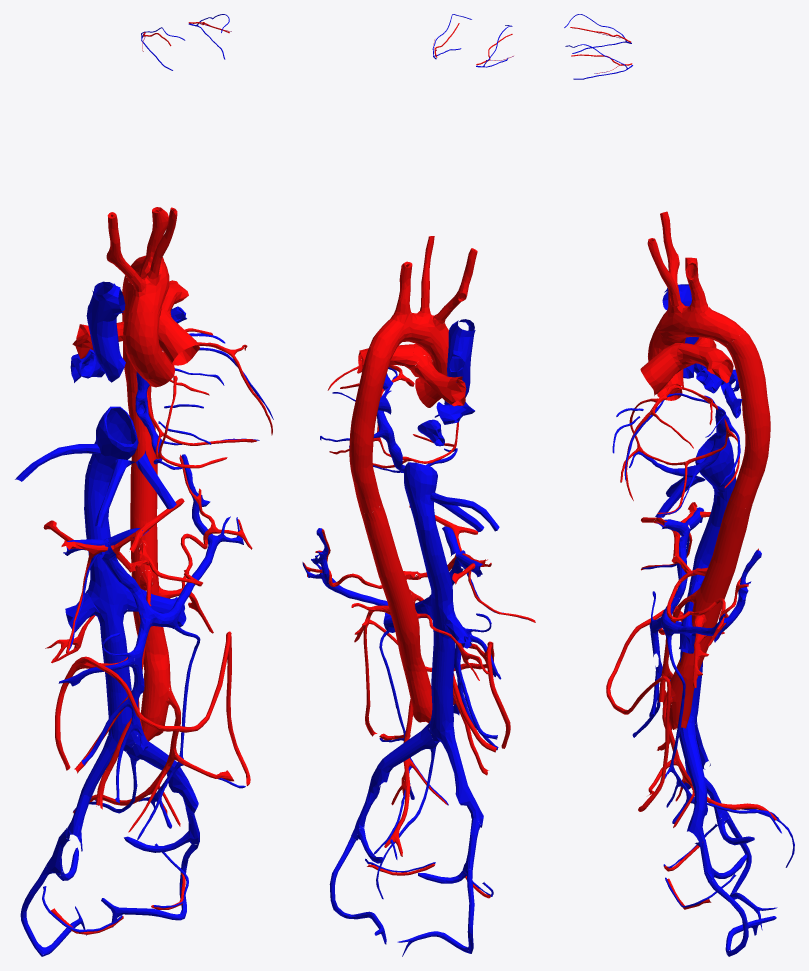
The model's file is VH_F_Blood_Vasculature_0.1.glb.
3 views of the same model, side by side, from view 1: azimuth 30°, elevation 25°; view 2: azimuth 150°, elevation 25°; view 3: azimuth 270°, elevation 25° (orthographic). The views are drawn at different scales.
Parts seen in each view (by area): view 1: VH_F_inferior_vena_cava_b, VH_F_descending_aorta_b, VH_F_marginal_artery_of_Drummond, VH_F_superior_vena_cava, VH_F_ascending_aorta, VH_F_inferior_vena_cava_a, VH_F_splenic_vein, VH_F_aortic_arch, VH_F_left_common_iliac_vein, VH_F_pulmonary_trunk, VH_F_right_common_iliac_vein, VH_F_descending_aorta_a (+14 smaller); view 2: VH_F_descending_aorta_b, VH_F_inferior_vena_cava_b, VH_F_descending_aorta_a, VH_F_aortic_arch, VH_F_inferior_vena_cava_a, VH_F_left_common_iliac_vein, VH_F_superior_vena_cava, VH_F_marginal_artery_of_Drummond, VH_F_pulmonary_artery_R, VH_F_right_common_iliac_vein, VH_F_splenic_vein, VH_F_ascending_aorta (+7 smaller); view 3: VH_F_descending_aorta_b, VH_F_descending_aorta_a, VH_F_aortic_arch, VH_F_inferior_vena_cava_b, VH_F_left_common_iliac_vein, VH_F_marginal_artery_of_Drummond, VH_F_splenic_vein, VH_F_pulmonary_artery_L, VH_F_inferior_vena_cava_a, VH_F_pulmonary_trunk, VH_F_splenic_artery, VH_F_ascending_aorta (+11 smaller).
Boxes of the visible parts, left/top/right/bottom form: VH_F_inferior_vena_cava_b: left=84, top=461, right=137, bottom=751; VH_F_descending_aorta_b: left=130, top=443, right=171, bottom=741; VH_F_marginal_artery_of_Drummond: left=55, top=631, right=250, bottom=785; VH_F_superior_vena_cava: left=86, top=281, right=125, bottom=382; VH_F_ascending_aorta: left=123, top=312, right=174, bottom=387; VH_F_inferior_vena_cava_a: left=89, top=406, right=138, bottom=475; VH_F_splenic_vein: left=140, top=454, right=243, bottom=628; VH_F_aortic_arch: left=126, top=255, right=169, bottom=315; VH_F_left_common_iliac_vein: left=126, top=732, right=198, bottom=814; VH_F_pulmonary_trunk: left=158, top=308, right=200, bottom=365; VH_F_right_common_iliac_vein: left=65, top=735, right=117, bottom=842; VH_F_descending_aorta_a: left=122, top=275, right=155, bottom=443; VH_F_descending_aorta_b: left=360, top=502, right=432, bottom=723; VH_F_inferior_vena_cava_b: left=413, top=515, right=455, bottom=743; VH_F_descending_aorta_a: left=349, top=346, right=390, bottom=513; VH_F_aortic_arch: left=370, top=311, right=448, bottom=359; VH_F_inferior_vena_cava_a: left=404, top=462, right=437, bottom=516; VH_F_left_common_iliac_vein: left=365, top=721, right=435, bottom=803; VH_F_superior_vena_cava: left=444, top=319, right=475, bottom=404; VH_F_marginal_artery_of_Drummond: left=363, top=619, right=510, bottom=748; VH_F_pulmonary_artery_R: left=415, top=355, right=466, bottom=406; VH_F_right_common_iliac_vein: left=442, top=727, right=483, bottom=827; VH_F_splenic_vein: left=302, top=528, right=388, bottom=605; VH_F_ascending_aorta: left=415, top=346, right=448, bottom=407; VH_F_descending_aorta_b: left=669, top=497, right=752, bottom=729; VH_F_descending_aorta_a: left=724, top=331, right=770, bottom=508; VH_F_aortic_arch: left=658, top=303, right=745, bottom=345; VH_F_inferior_vena_cava_b: left=680, top=479, right=736, bottom=724; VH_F_left_common_iliac_vein: left=679, top=717, right=707, bottom=842; VH_F_marginal_artery_of_Drummond: left=606, top=608, right=683, bottom=811; VH_F_splenic_vein: left=661, top=550, right=761, bottom=642; VH_F_pulmonary_artery_L: left=677, top=343, right=733, bottom=383; VH_F_inferior_vena_cava_a: left=695, top=433, right=735, bottom=492; VH_F_pulmonary_trunk: left=640, top=343, right=694, bottom=394; VH_F_splenic_artery: left=666, top=548, right=758, bottom=646; VH_F_ascending_aorta: left=648, top=323, right=685, bottom=400.
Size of the model in its own units: 0.1926 by 0.801 by 0.1848.
